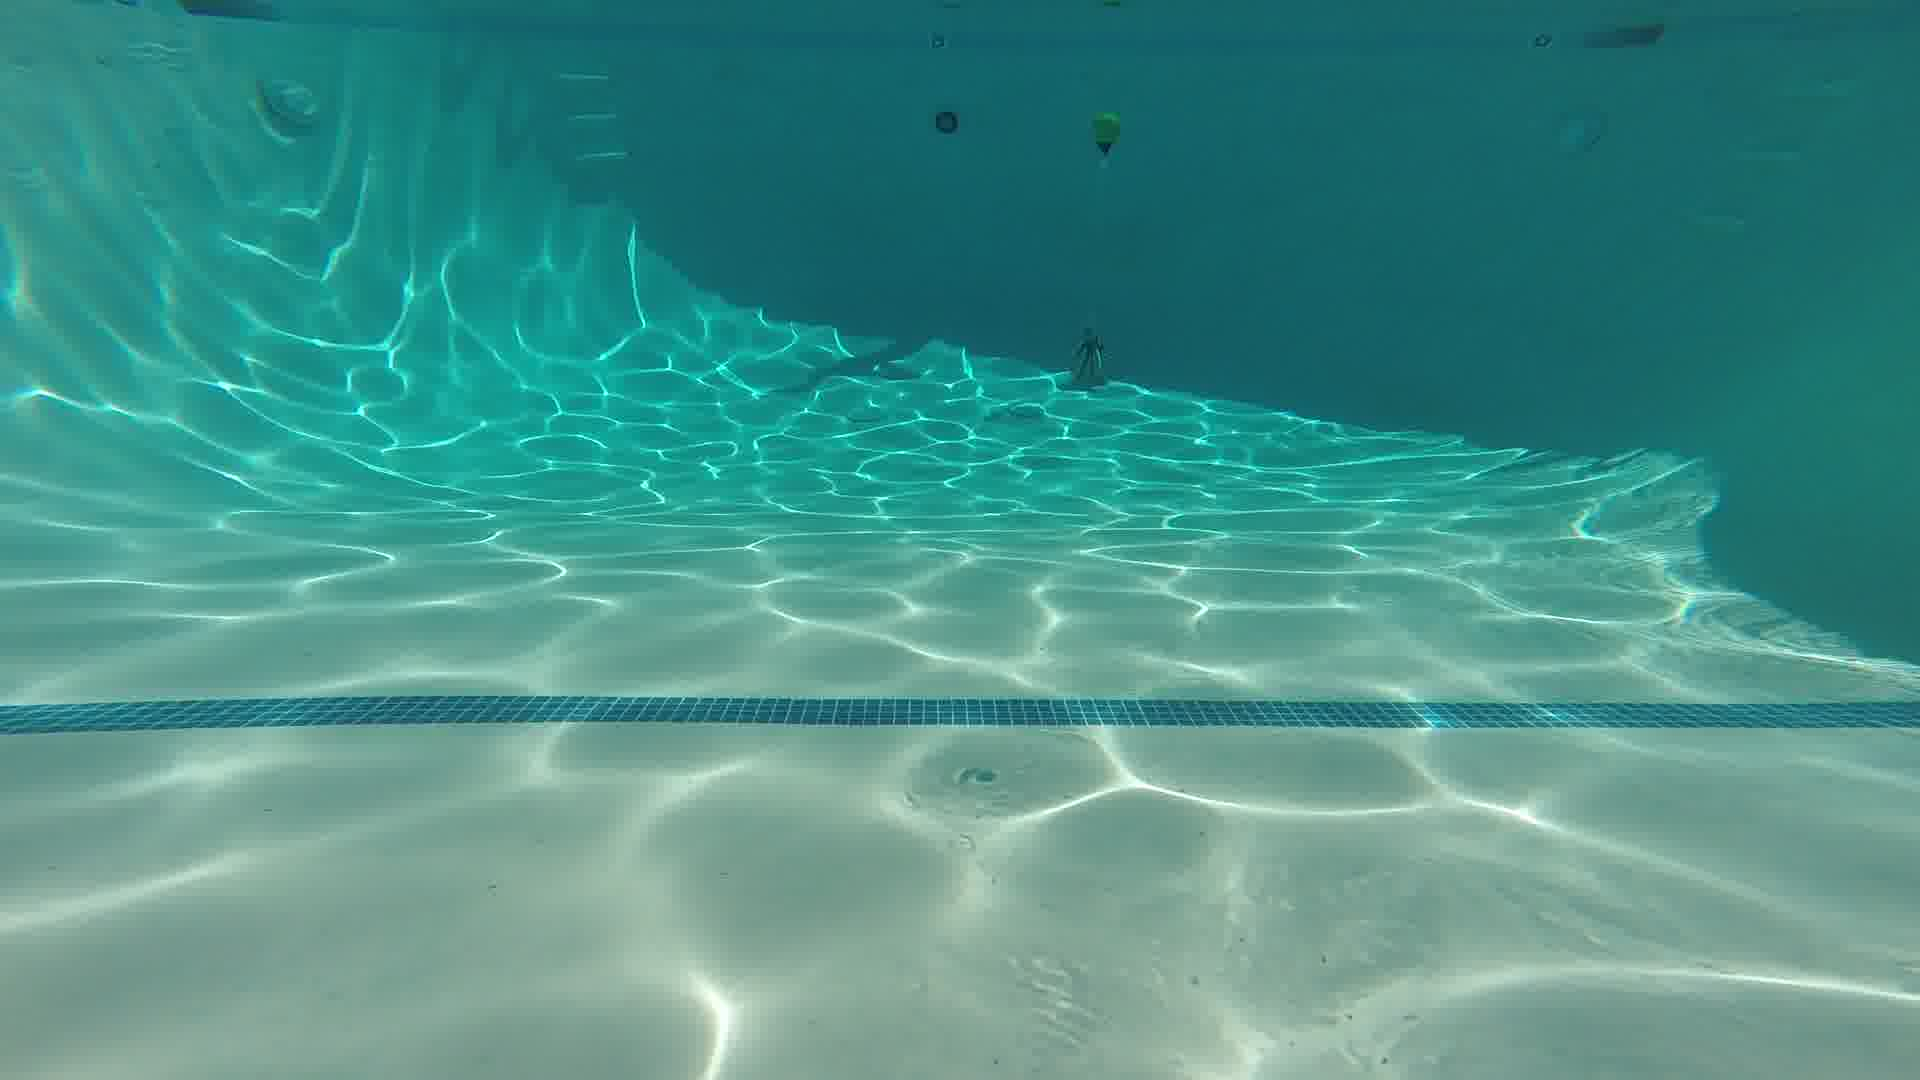yellow_buoy: (1087, 105, 1124, 174)
